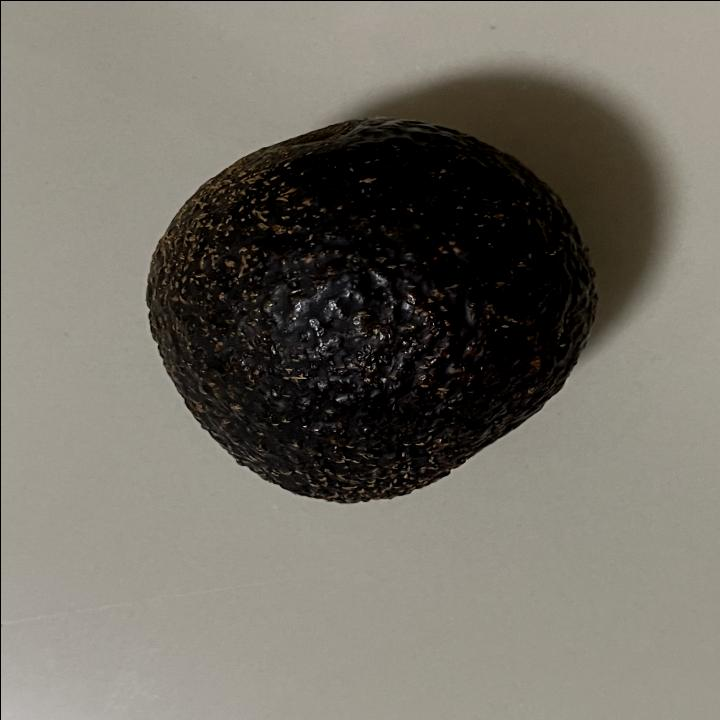Level3: (135, 108, 606, 513)
